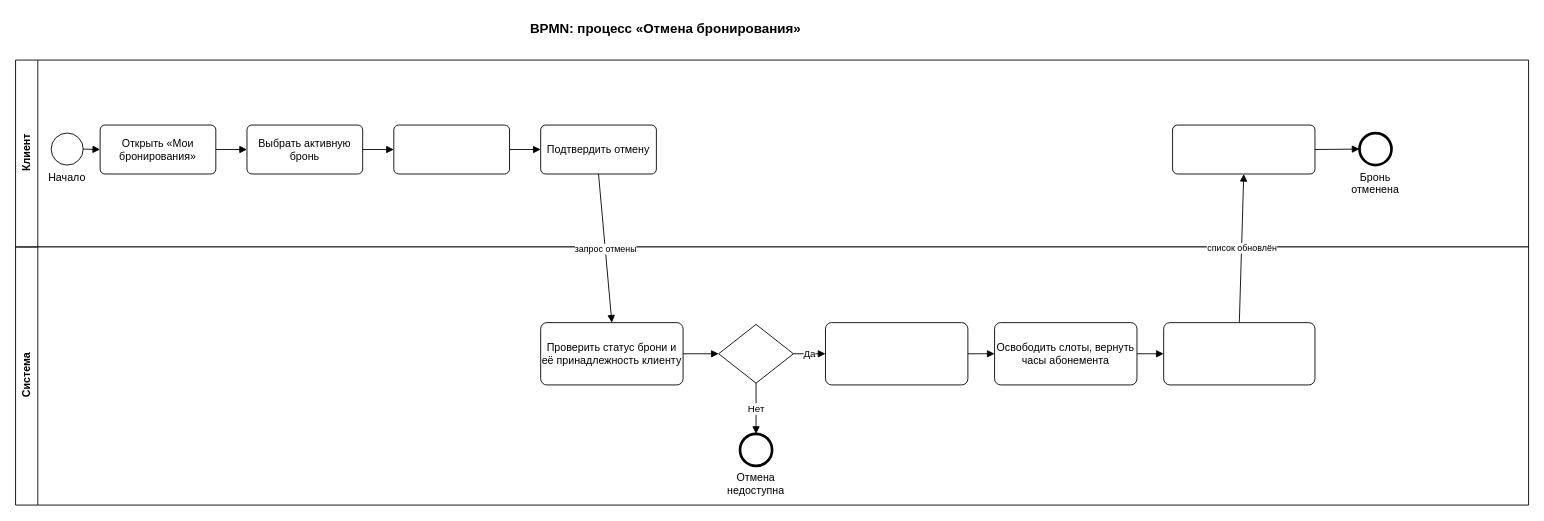
Image size: 1544x521. Some labels were removed from this diagram. The shapes that lost their labels are listed below. From the top down, each one's centre as x and y in pixels, then its label:
At point (451, 149): "Нажать «Отменить»".
At point (1243, 149): "Просмотр обновлённого списка броней".
At point (755, 353): "Отмена возможна?".
At point (896, 353): "Сменить статус брони на «отменена»".
At point (1239, 353): "Обновить карту мест и список бронирований".
